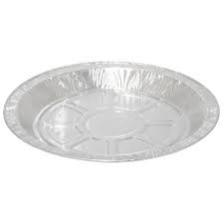metal: (3, 47, 224, 168)
